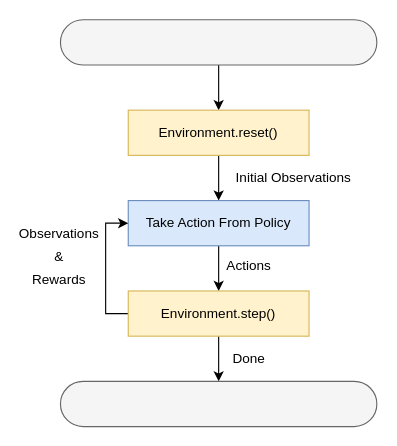
Image size: 397x446. Some labels were removed from this diagram. The box of each missing label's shape, as (x1, y1, x2, y2) in pixels:
End of Episode: (59, 380, 377, 427)
Start of Episode: (59, 19, 377, 65)
